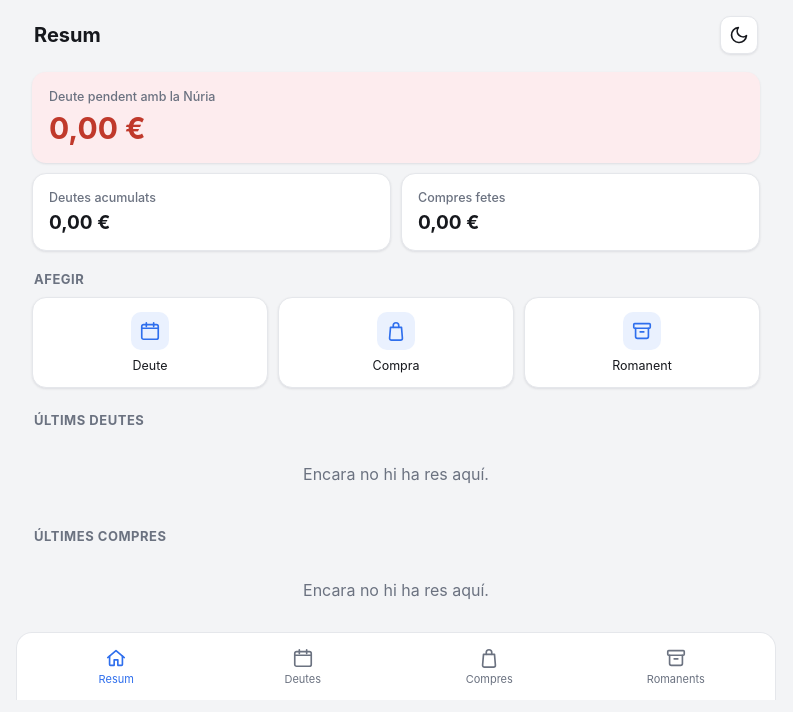
Test: App (integració) › navega a Deutes en clicar la targeta "Deutes acumulats"
Click the text "Deutes acumulats" at (102, 198), box [49,190,156,205]
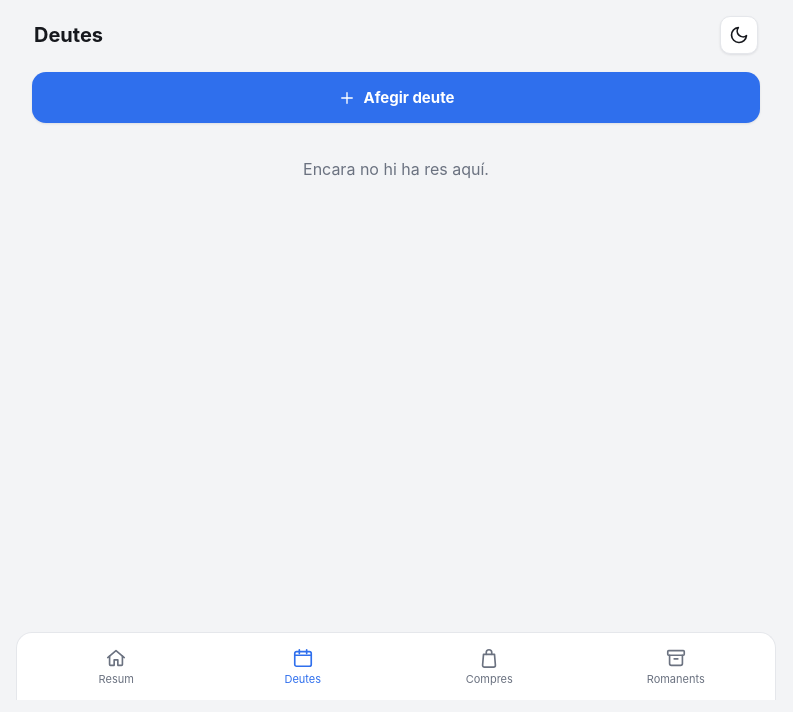
Check: the heading "Deutes" is shown, box [34,23,103,47]
